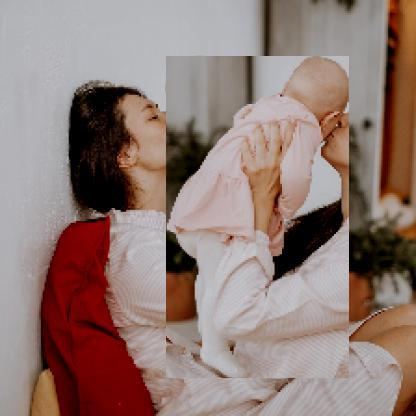child: (167, 57, 351, 380)
